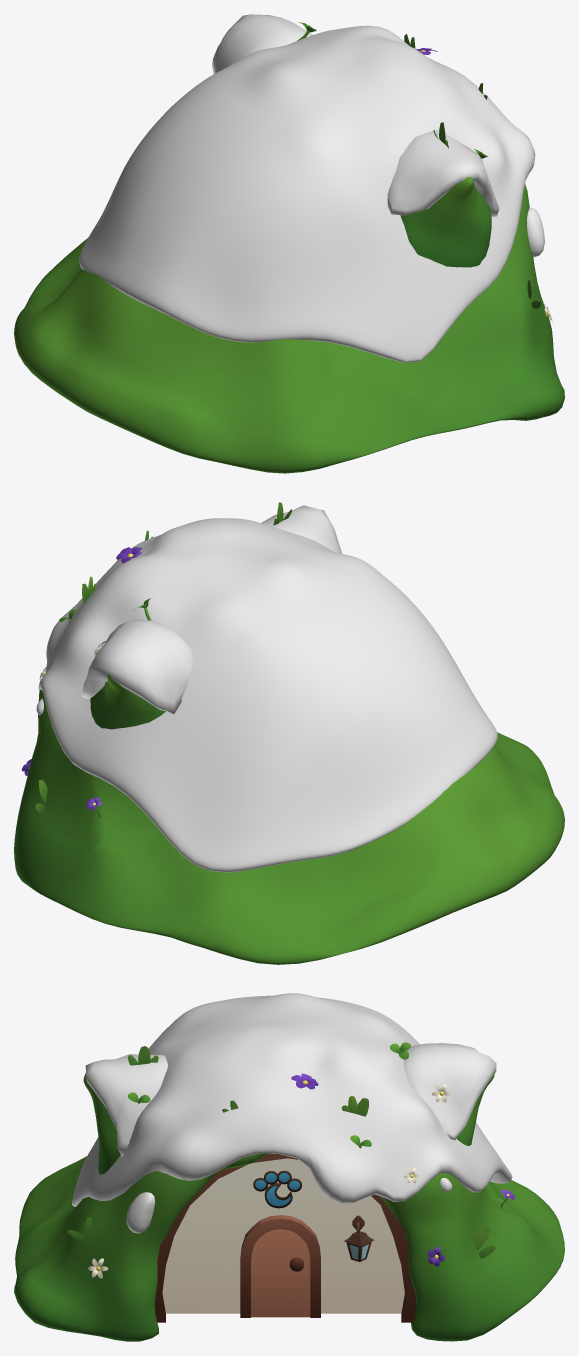
Rendered from CasaNieve.fbx.
The picture shows the model from 3 angles, top to bottom: view 1: azimuth 30°, elevation 25°; view 2: azimuth 150°, elevation 25°; view 3: azimuth 270°, elevation 25°; orthographic projection. The views are drawn at different scales.
Visible parts, largest first — view 1: Cube, Casa, Cube.006, Cube.003, Cube.001; view 2: Cube, Casa, Cube.003, Cube.006; view 3: Casa, Cube, Cube.003, Cube.006, Cube.001.
Boxes of the visible parts, x1,y1,x2,y2 form: Cube: (79, 25, 535, 362); Casa: (14, 22, 564, 473); Cube.006: (387, 130, 499, 216); Cube.003: (212, 14, 312, 73); Cube.001: (527, 207, 544, 257); Cube: (38, 518, 497, 872); Casa: (14, 502, 564, 964); Cube.003: (81, 618, 193, 713); Cube.006: (261, 505, 341, 553); Casa: (14, 1042, 564, 1341); Cube: (72, 993, 512, 1206); Cube.003: (403, 1043, 496, 1140); Cube.006: (85, 1054, 167, 1156); Cube.001: (126, 1192, 155, 1233).
Size of the model in its own units: 14 by 8.62 by 15.66.
